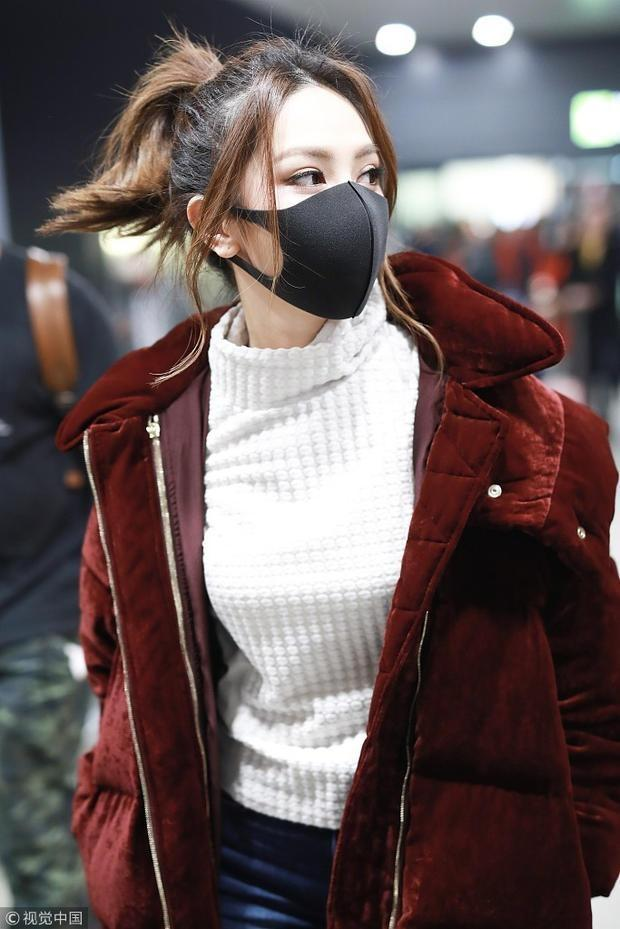mask: (238, 153, 409, 330)
